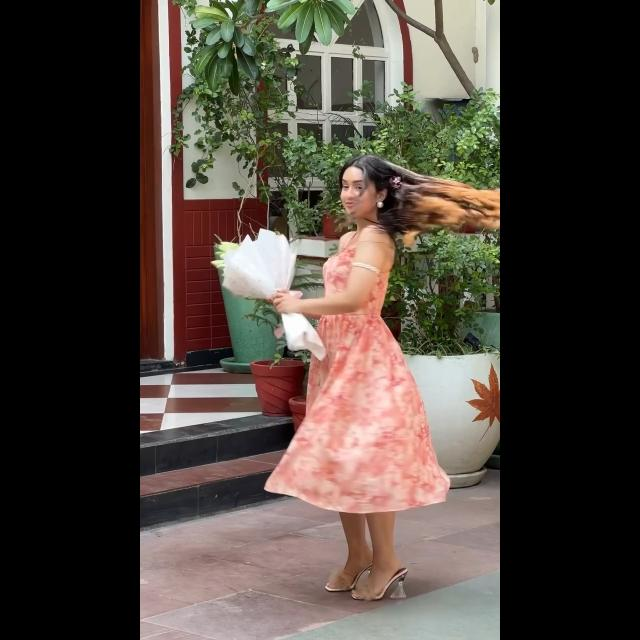dress: (284, 228, 448, 506)
ear ring: (374, 198, 386, 210)
shoes: (356, 568, 418, 602), (320, 574, 348, 590)
